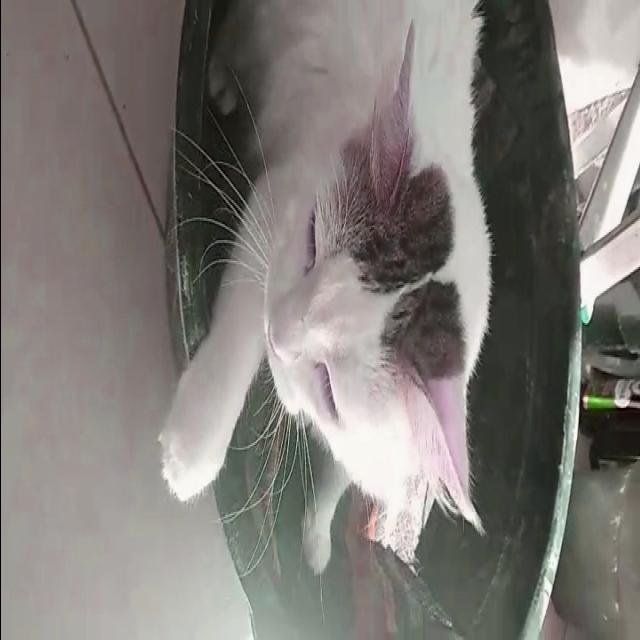Simba: (160, 15, 502, 605)
